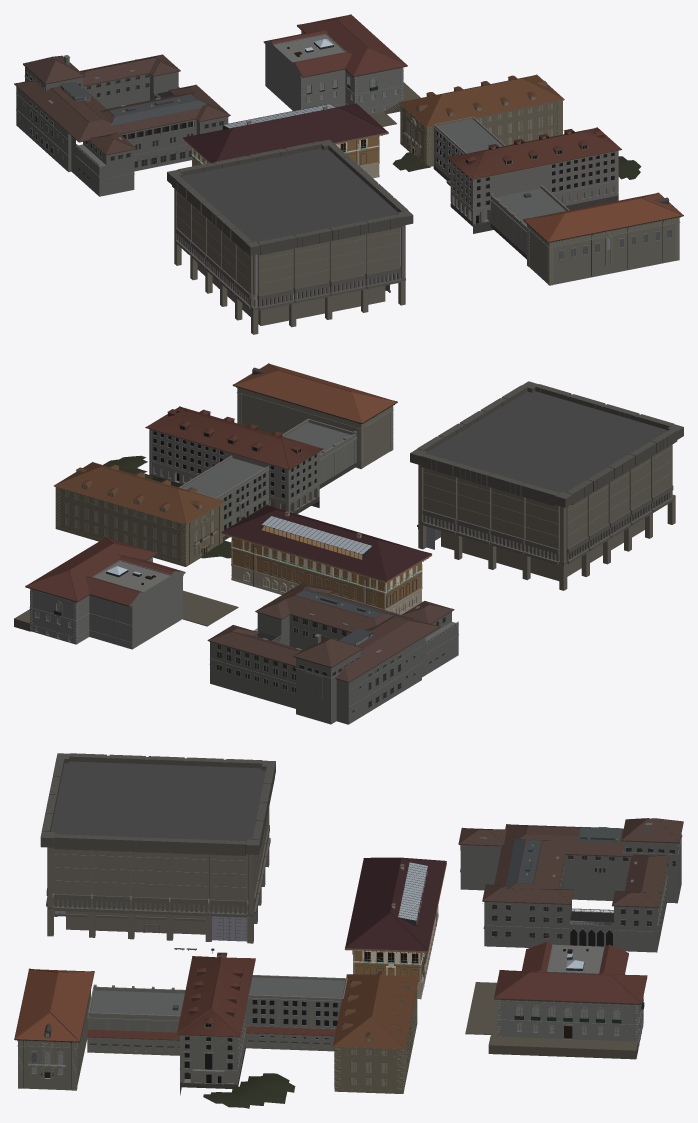
3 views of the same model, one above another, from view 1: azimuth 30°, elevation 25°; view 2: azimuth 150°, elevation 25°; view 3: azimuth 270°, elevation 25° (orthographic). The views are drawn at different scales.
Visible parts, largest first — view 1: opaque, glass; view 2: opaque (×2), glass; view 3: opaque, glass.
Part boxes in pixels (x1,y1,x2,y2): opaque: [14, 14, 683, 334]; glass: [19, 39, 614, 306]; opaque (×2): [14, 363, 683, 724]; glass: [35, 426, 548, 712]; opaque: [14, 753, 683, 1108]; glass: [32, 837, 678, 1086].
Bounding box in the file's own units: 175 × 36.27 × 195.
7 materials, 7 textured.
